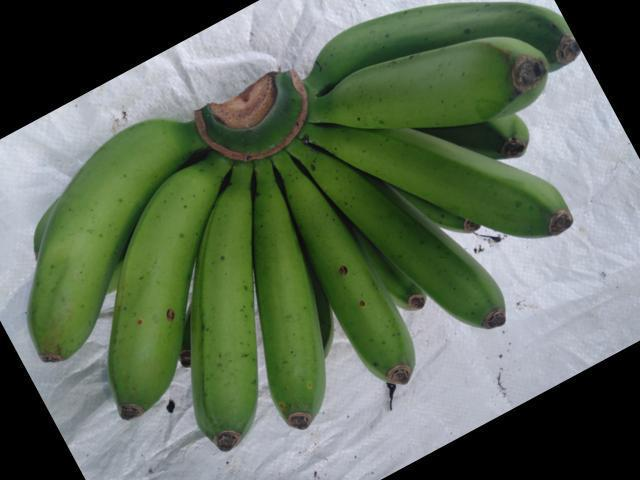unripe: (14, 98, 211, 361), (96, 161, 214, 434), (333, 108, 572, 238), (242, 165, 342, 445), (309, 35, 551, 137), (176, 189, 254, 475), (300, 6, 593, 76)
